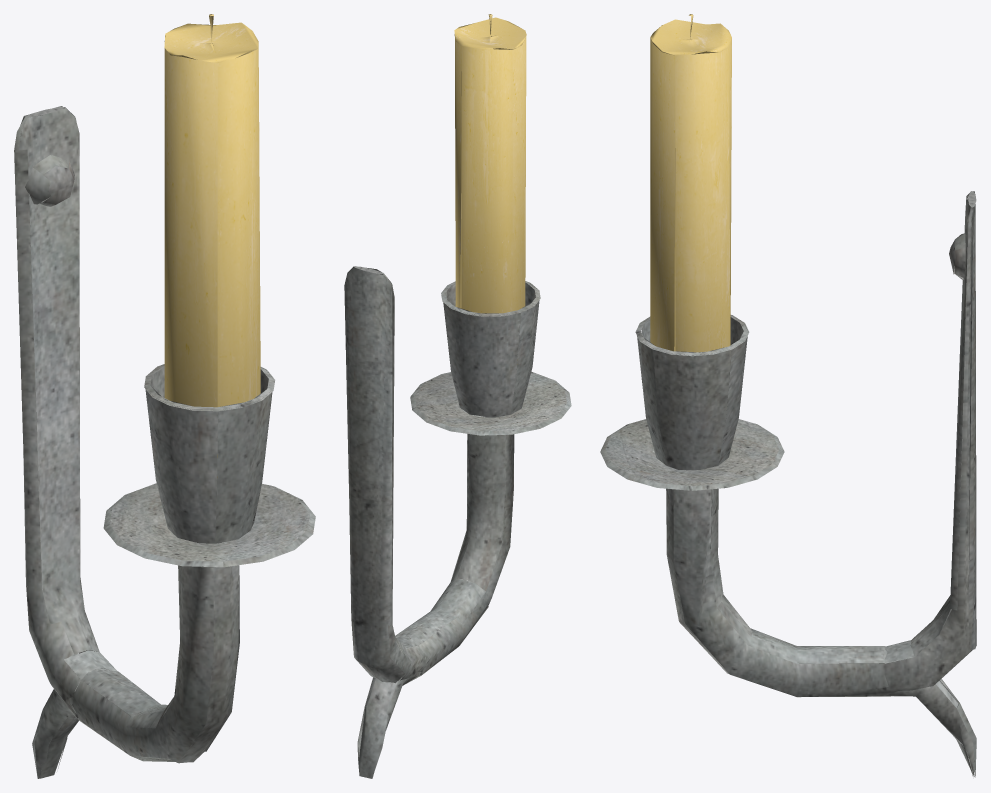
The model's file is wall_candle.glb.
3 renders of one model, left to right at view 1: azimuth 30°, elevation 25°; view 2: azimuth 150°, elevation 25°; view 3: azimuth 270°, elevation 25°, orthographic. The views are drawn at different scales.
Parts seen in each view (by area): view 1: Candlestick Wall_Iron_0; view 2: Candlestick Wall_Iron_0; view 3: Candlestick Wall_Iron_0.
Boxes of the visible parts, <box> form: Candlestick Wall_Iron_0: <box>14,14,315,778</box>; Candlestick Wall_Iron_0: <box>344,14,571,778</box>; Candlestick Wall_Iron_0: <box>600,14,976,777</box>.
Bounding box in the file's own units: 0.028 × 0.1273 × 0.0572.
2 materials, 2 textured.
